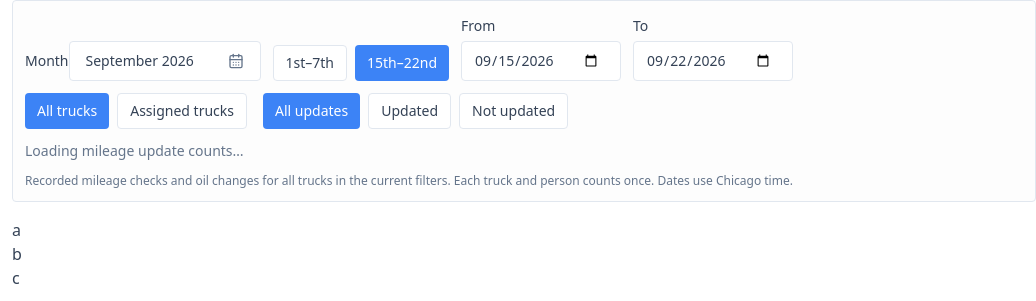
Test: applies presets in another month and allows an inclusive custom period
The width and height of the screenshot is (1036, 301).
Earlier steps of the test are not shown.
Click the button "15th–22nd".
click(402, 63)  # box [355,45,449,81]
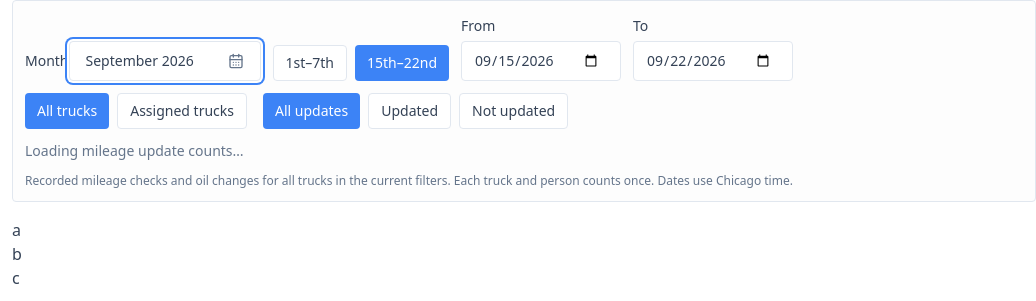
Expected: the date field labelled "From" holds "2026-09-15", [461,41,621,81]
Type "2026-09-24" into the date field labelled "To".
click(713, 61); type("2026-09-24")  # box [633,41,793,81]
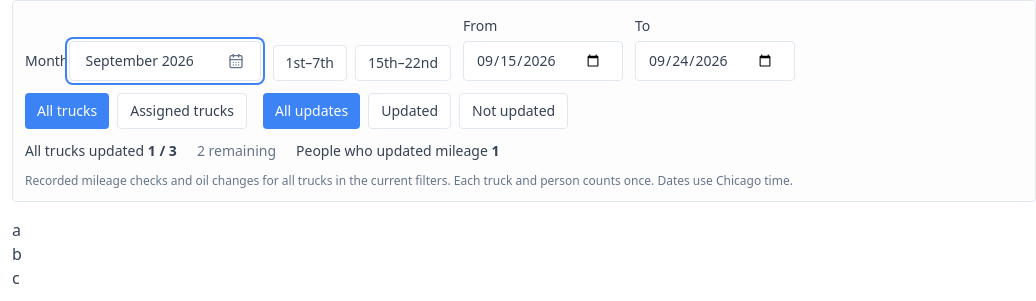
Expected: the button "15th–22nd" is not pressed, [355,45,451,81]
